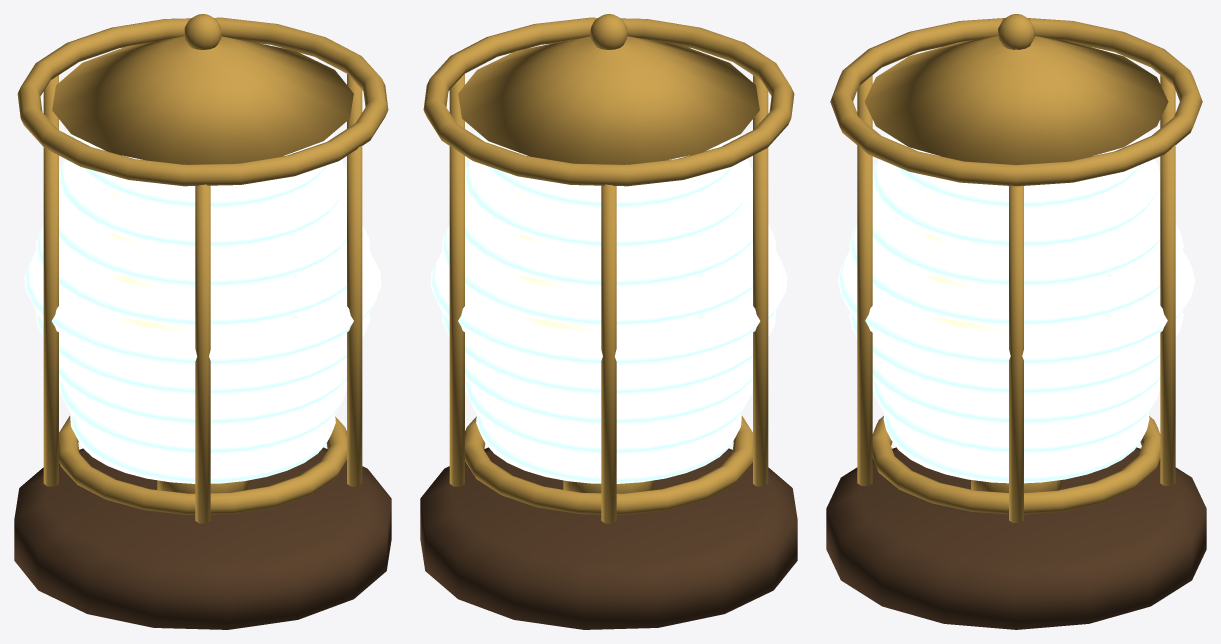
Rendered from linse.glb.
3 views of the same model, side by side, from view 1: azimuth 30°, elevation 25°; view 2: azimuth 150°, elevation 25°; view 3: azimuth 270°, elevation 25° (orthographic).
Visible parts, largest first — view 1: d; view 2: d; view 3: d.
Part boxes in pixels (left/top/right/bottom): d: left=14, top=14, right=391, bottom=629; d: left=420, top=14, right=797, bottom=629; d: left=826, top=14, right=1206, bottom=629.
Bounding box in the file's own units: 1 × 1.55 × 1.
